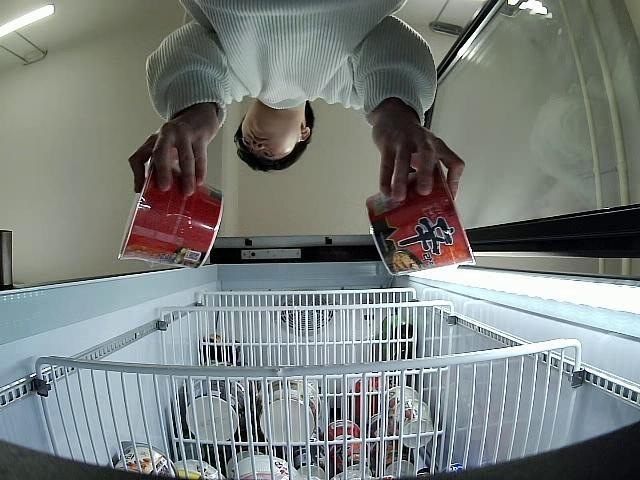01_ShinRamen_L: (366, 160, 475, 275), (119, 162, 224, 270)
